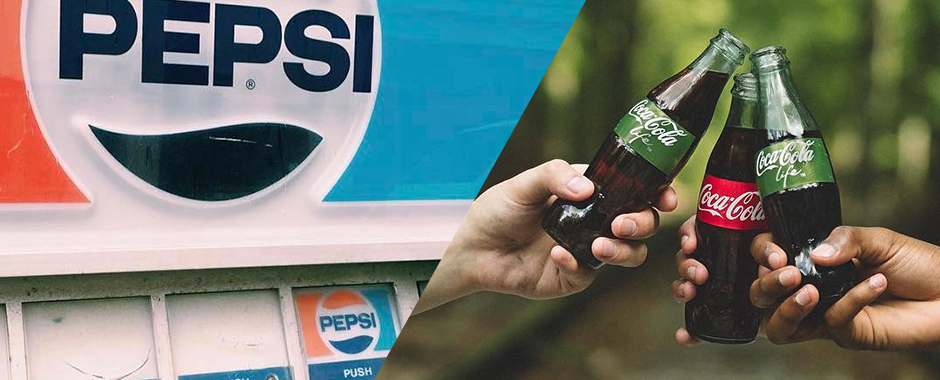pepsi: (18, 0, 382, 215), (18, 0, 319, 215), (317, 285, 382, 358)
